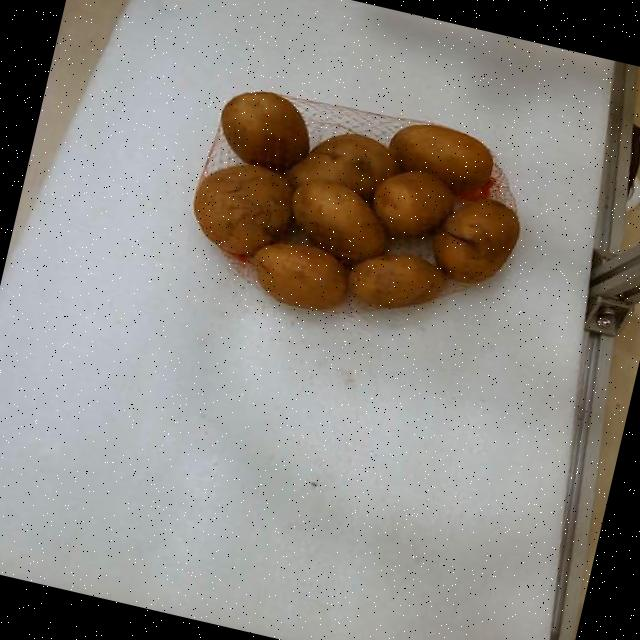potato: (193, 163, 292, 254), (290, 179, 384, 260), (287, 132, 398, 199), (433, 198, 519, 282), (222, 91, 309, 171), (389, 124, 492, 190), (255, 241, 347, 308), (372, 170, 453, 236), (348, 254, 444, 307)
